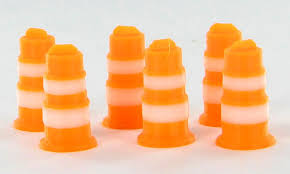barrel: (42, 50, 90, 150), (10, 29, 58, 128), (224, 42, 268, 149), (143, 45, 189, 146), (103, 28, 146, 131), (200, 24, 243, 124)
